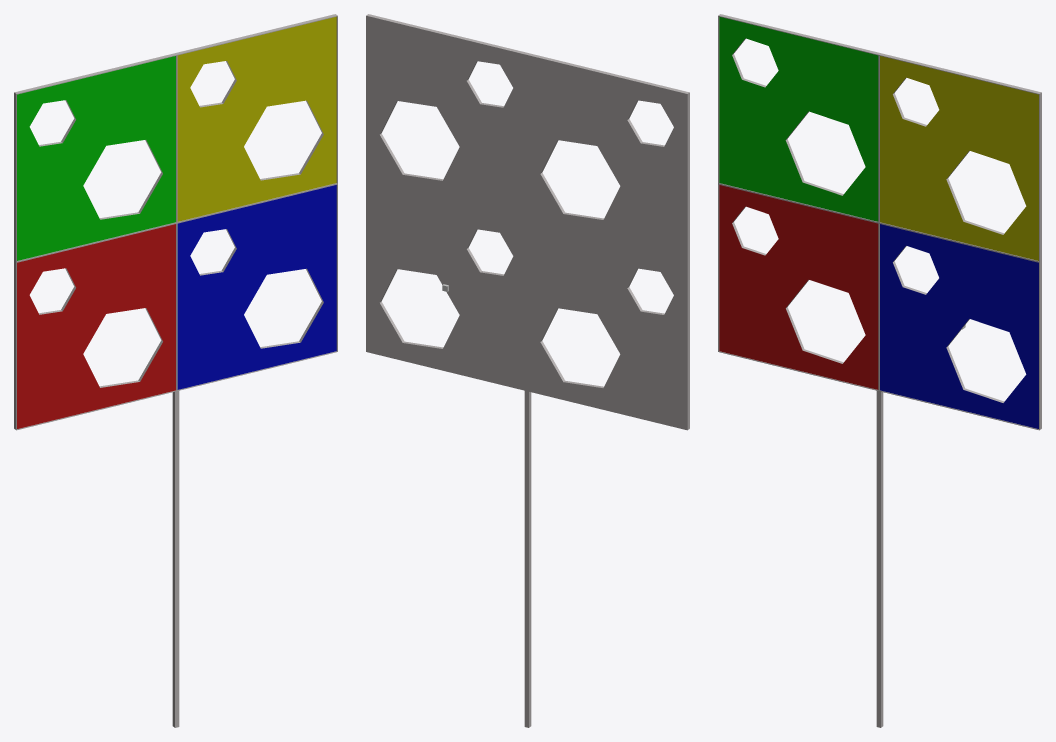
Rendered from Torpedo-targets.color.dae.
The picture shows the model from 3 angles, left to right: view 1: azimuth 30°, elevation 25°; view 2: azimuth 150°, elevation 25°; view 3: azimuth 330°, elevation 25°; orthographic projection.
Parts seen in each view (by area): view 1: TORPEDO-TARGETS; view 2: TORPEDO-TARGETS; view 3: TORPEDO-TARGETS.
Boxes of the visible parts, x1,y1,x2,y2 form: TORPEDO-TARGETS: (14, 14, 337, 727); TORPEDO-TARGETS: (366, 14, 689, 727); TORPEDO-TARGETS: (718, 14, 1041, 727).
Bounding box in the file's own units: 122 × 2.52 × 244.
